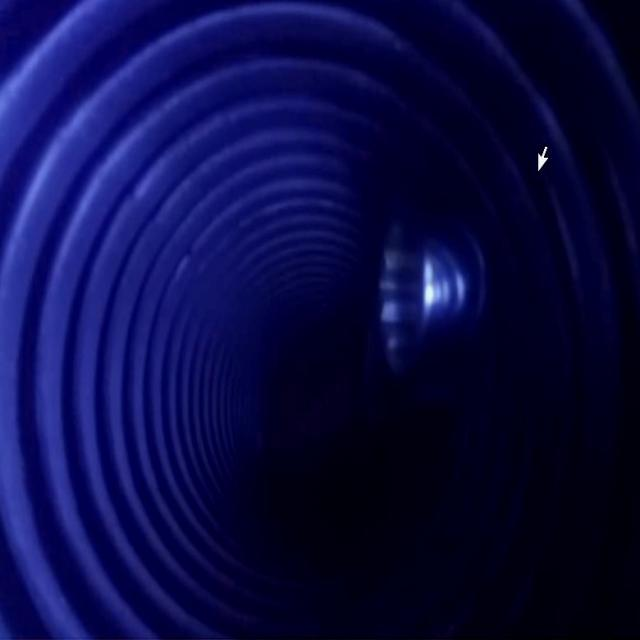metal piece: (378, 217, 490, 370)
